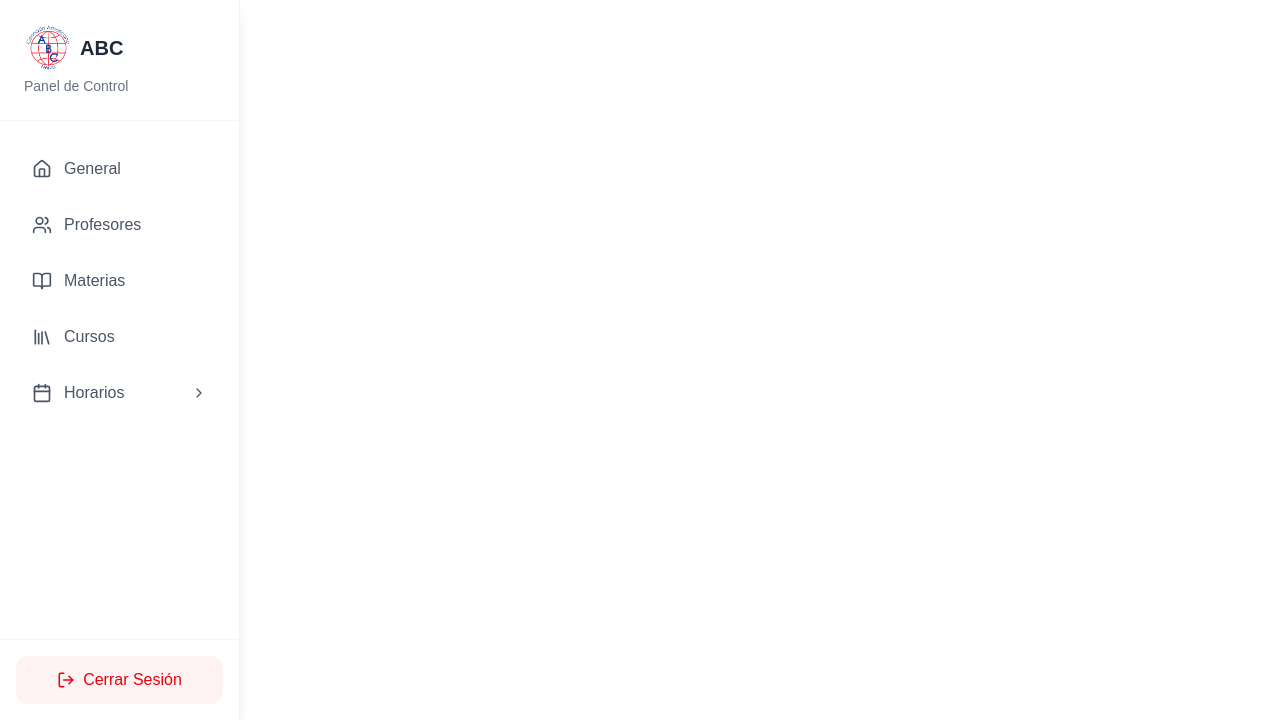
Test case: Sidebar Component › shows logout confirmation modal when logout button is clicked
What coordinates should you click on to do the following:
click the button "Cerrar Sesión"
I would click on:
 (120, 680)
Its box is 16,656 -> 223,704.
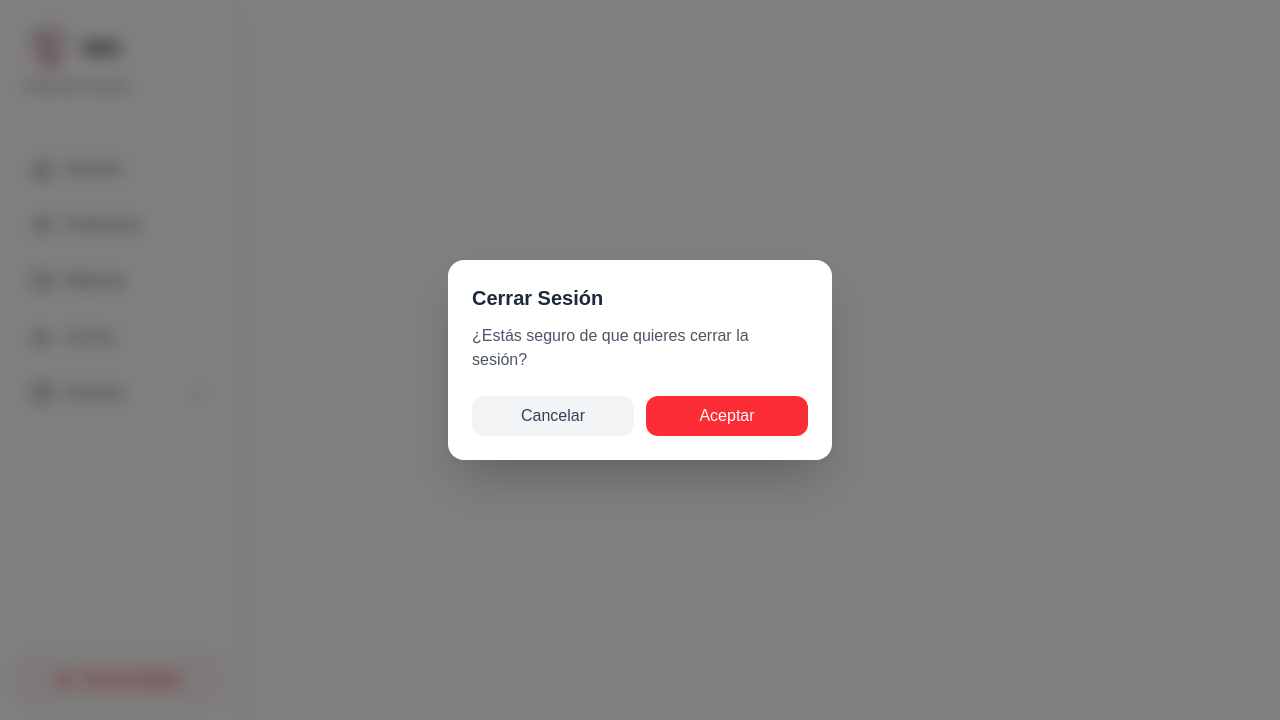
Now the text "¿Estás seguro de que quieres cerrar la sesión?" is shown, box 472,327 -> 749,368
Now the button "Cancelar" is shown, box 472,396 -> 634,436
Now the button "Aceptar" is shown, box 646,396 -> 808,436
